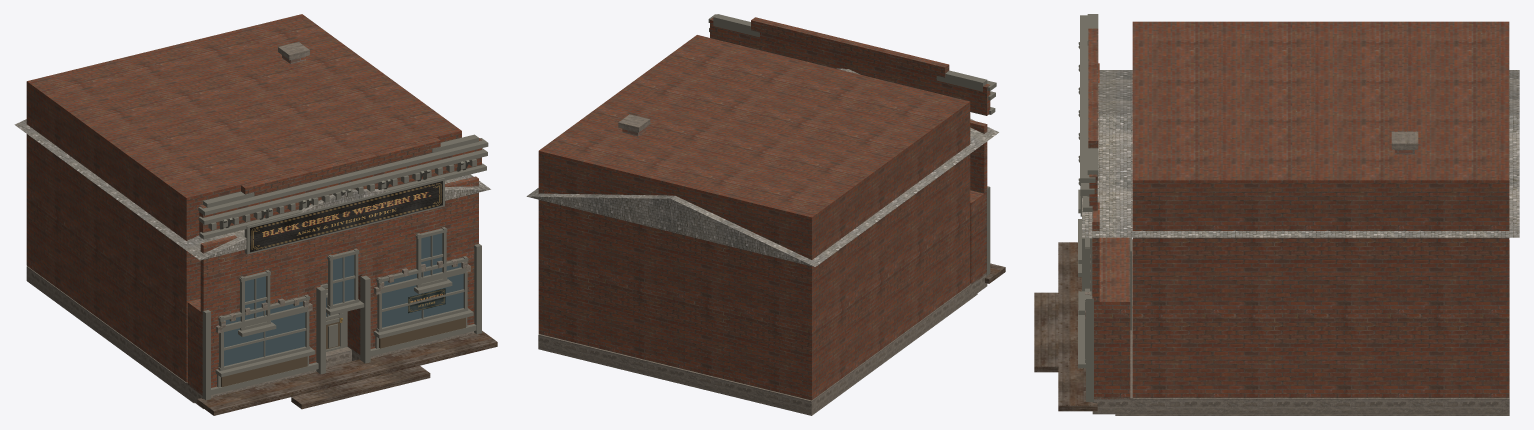
Rendered from bcw_assay_office.glb.
The picture shows the model from 3 angles, left to right: view 1: azimuth 30°, elevation 25°; view 2: azimuth 150°, elevation 25°; view 3: azimuth 270°, elevation 25°; orthographic projection. The views are drawn at different scales.
Parts seen in each view (by area): view 1: Pressed brick | grade and eave AO, Trim bcw_assay_office, Photographic pine, Cold cylinder glass, Rubble foundation, Print_assay, Split slate, Door bcw_assay_office, Print_paymaster; view 2: Pressed brick | grade and eave AO, Split slate, Rubble foundation, Trim bcw_assay_office; view 3: Pressed brick | grade and eave AO, Split slate, Rubble foundation, Photographic pine, Trim bcw_assay_office.
Boxes of the visible parts, bbox=[...] form: Pressed brick | grade and eave AO: bbox=[26, 14, 481, 395]; Trim bcw_assay_office: bbox=[198, 134, 488, 400]; Photographic pine: bbox=[197, 331, 497, 415]; Cold cylinder glass: bbox=[224, 233, 463, 366]; Rubble foundation: bbox=[26, 42, 474, 408]; Print_assay: bbox=[250, 181, 442, 252]; Split slate: bbox=[14, 119, 490, 260]; Door bcw_assay_office: bbox=[221, 288, 465, 386]; Print_paymaster: bbox=[408, 288, 445, 313]; Pressed brick | grade and eave AO: bbox=[538, 17, 990, 400]; Split slate: bbox=[526, 68, 998, 266]; Rubble foundation: bbox=[538, 114, 987, 415]; Trim bcw_assay_office: bbox=[708, 14, 996, 275]; Pressed brick | grade and eave AO: bbox=[1088, 21, 1509, 399]; Split slate: bbox=[1082, 70, 1519, 237]; Rubble foundation: bbox=[1085, 131, 1509, 415]; Photographic pine: bbox=[1034, 242, 1097, 411]; Trim bcw_assay_office: bbox=[1078, 14, 1131, 401].
Bounding box in the file's own units: 9.52 × 6.67 × 11.65.
12 materials, 7 textured.
